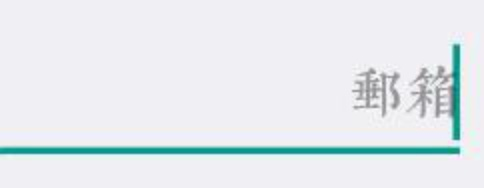EditText: (1, 1, 483, 187)
